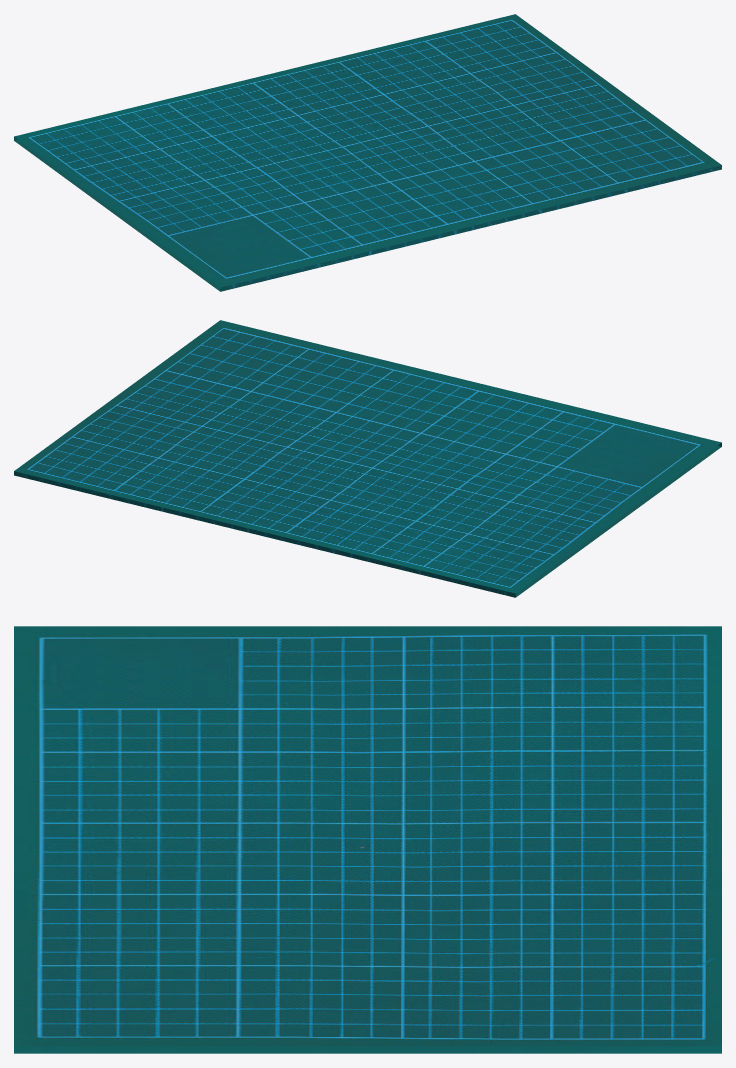
The model's file is MeasuringMat.fbx.
3 views of the same model, one above another, from view 1: azimuth 30°, elevation 25°; view 2: azimuth 150°, elevation 25°; view 3: azimuth 270°, elevation 25° (orthographic). The views are drawn at different scales.
Visible parts, largest first — view 1: MeasuringMat; view 2: MeasuringMat; view 3: MeasuringMat.
Part boxes in pixels (x1,y1,x2,y2): MeasuringMat: [14, 14, 721, 291]; MeasuringMat: [14, 320, 721, 597]; MeasuringMat: [14, 626, 721, 1053].
Size of the model in its own units: 46.44 by 0.3791 by 33.1.
Materials: 1 (1 with a texture image).
